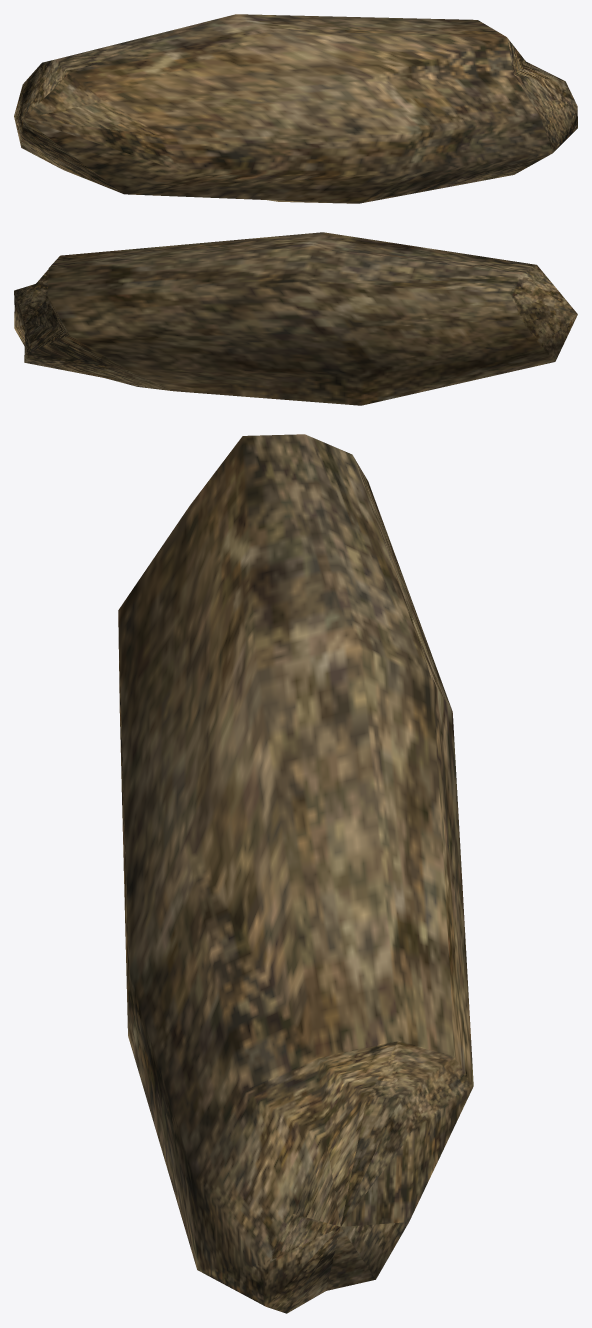
Rendered from CH09_SMAUG_PLAYSURFACE_LONELYMOUNTAIN_LM_PLAYSURFACE36.fbx.
The picture shows the model from 3 angles, top to bottom: view 1: azimuth 30°, elevation 25°; view 2: azimuth 150°, elevation 25°; view 3: azimuth 270°, elevation 25°; orthographic projection. The views are drawn at different scales.
Visible parts, largest first — view 1: CH09_SMAUG_PLAYSURFACE_LONELYMOUNTAIN_LM_PLAYSURFACE36; view 2: CH09_SMAUG_PLAYSURFACE_LONELYMOUNTAIN_LM_PLAYSURFACE36; view 3: CH09_SMAUG_PLAYSURFACE_LONELYMOUNTAIN_LM_PLAYSURFACE36.
Boxes of the visible parts, x1,y1,x2,y2 form: CH09_SMAUG_PLAYSURFACE_LONELYMOUNTAIN_LM_PLAYSURFACE36: (14,14,577,203); CH09_SMAUG_PLAYSURFACE_LONELYMOUNTAIN_LM_PLAYSURFACE36: (14,232,577,405); CH09_SMAUG_PLAYSURFACE_LONELYMOUNTAIN_LM_PLAYSURFACE36: (118,434,473,1313).
Size of the model in its own units: 60949 by 21910 by 16828.
Materials: 1 (1 with a texture image).
